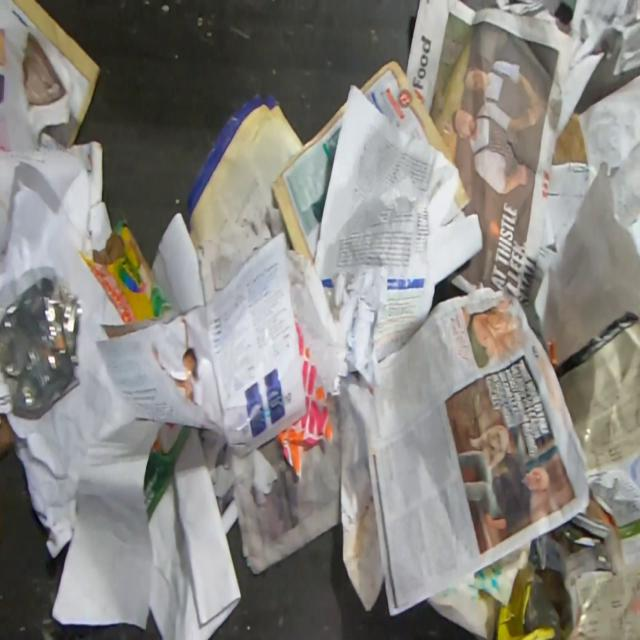cardboard: (77, 218, 176, 324), (550, 111, 588, 166)
metal: (0, 274, 83, 420)
